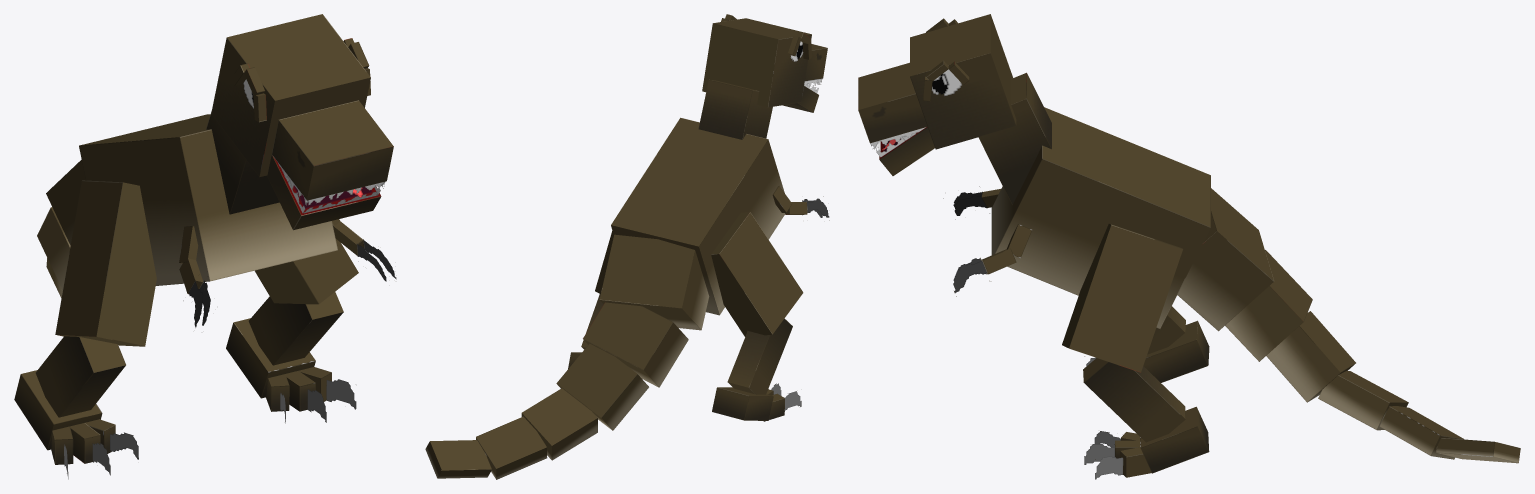
Rendered from animateddinosaur19.obj.
The picture shows the model from 3 angles, left to right: view 1: azimuth 30°, elevation 25°; view 2: azimuth 150°, elevation 25°; view 3: azimuth 270°, elevation 25°; orthographic projection. The views are drawn at different scales.
Visible parts, largest first — view 1: Object_6, Object_64, Object_9, Object_56, Object_12, Object_34, Object_31, Object_53, Object_79, Object_37, Object_15, Object_92 (+13 smaller); view 2: Object_6, Object_92, Object_9, Object_64, Object_95, Object_98, Object_53, Object_101, Object_104, Object_12, Object_107, Object_15 (+2 smaller); view 3: Object_6, Object_31, Object_64, Object_92, Object_34, Object_53, Object_95, Object_98, Object_56, Object_101, Object_37, Object_15 (+5 smaller).
Boxes of the visible parts, box(x1,y1,x2,y2) form: Object_6: box(79, 114, 337, 285); Object_64: box(211, 14, 370, 177); Object_9: box(55, 180, 156, 346); Object_56: box(271, 100, 393, 200); Object_12: box(35, 336, 125, 417); Object_34: box(248, 292, 343, 365); Object_31: box(255, 239, 358, 304); Object_53: box(206, 111, 279, 214); Object_79: box(267, 155, 381, 230); Object_37: box(226, 318, 315, 398); Object_15: box(14, 370, 102, 450); Object_92: box(46, 160, 85, 244); Object_6: box(611, 117, 784, 315); Object_92: box(599, 234, 709, 330); Object_9: box(711, 212, 803, 336); Object_64: box(702, 18, 811, 107); Object_95: box(583, 302, 688, 387); Object_98: box(556, 343, 648, 430); Object_53: box(698, 79, 772, 139); Object_101: box(521, 388, 597, 460); Object_104: box(476, 416, 547, 479); Object_12: box(727, 318, 792, 394); Object_107: box(425, 440, 491, 478); Object_15: box(712, 387, 773, 420); Object_6: box(991, 107, 1210, 328); Object_31: box(1062, 223, 1182, 372); Object_64: box(910, 14, 1016, 149); Object_92: box(1177, 188, 1274, 331); Object_34: box(1083, 358, 1185, 442); Object_53: box(978, 72, 1051, 204); Object_95: box(1225, 250, 1312, 361); Object_98: box(1266, 311, 1355, 402); Object_56: box(858, 62, 927, 143); Object_101: box(1318, 371, 1408, 430); Object_37: box(1140, 406, 1209, 473); Object_15: box(1143, 320, 1209, 382).
Size of the model in its own units: 2.41 by 3.51 by 5.37.
